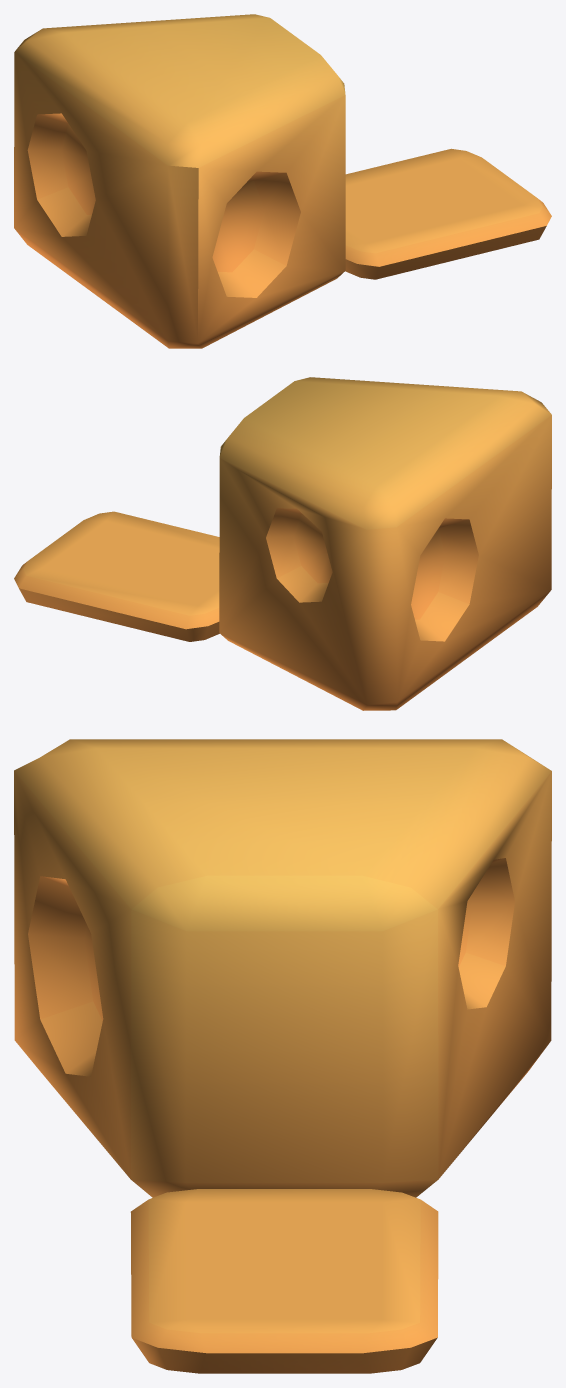
Rendered from Cheese cut.glb.
3 views of the same model, one above another, from view 1: azimuth 30°, elevation 25°; view 2: azimuth 150°, elevation 25°; view 3: azimuth 270°, elevation 25° (orthographic). The views are drawn at different scales.
Visible parts, largest first — view 1: food_ingredient_cheese_chopped; view 2: food_ingredient_cheese_chopped; view 3: food_ingredient_cheese_chopped.
Boxes of the visible parts, <box> form: food_ingredient_cheese_chopped: <box>14,14,551,348</box>; food_ingredient_cheese_chopped: <box>14,377,551,710</box>; food_ingredient_cheese_chopped: <box>14,739,551,1373</box>.
Size of the model in its own units: 1.02 by 0.5 by 0.722.
1 material, 1 textured.
